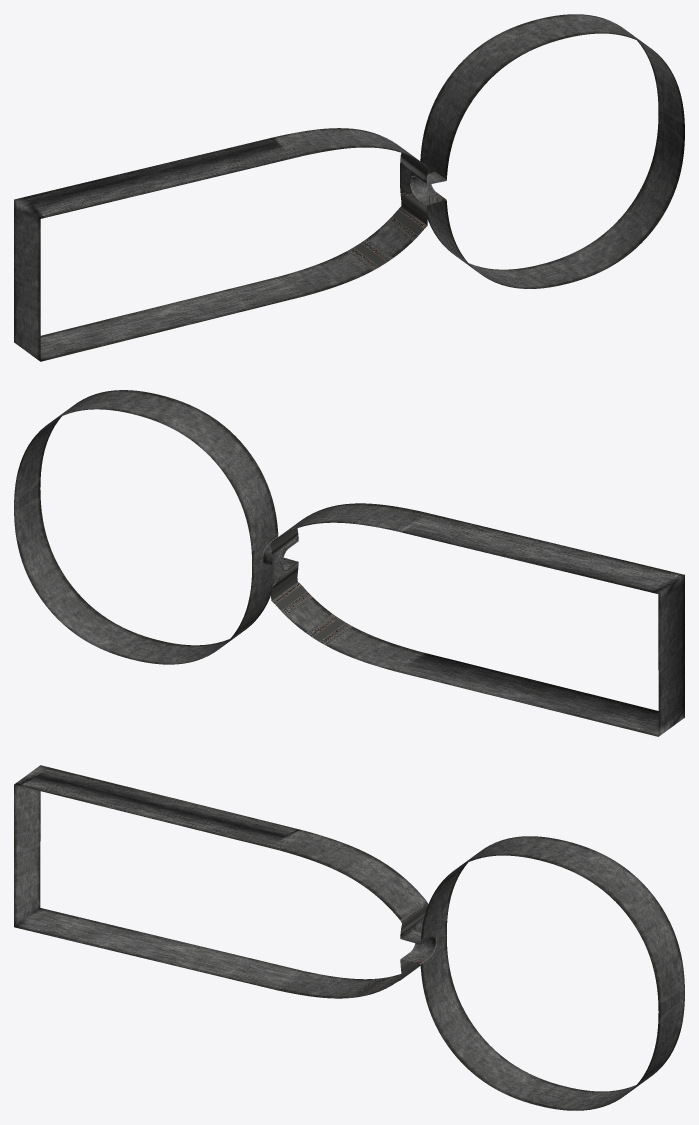
The model's file is InvisibleWall.glb.
3 renders of one model, top to bottom at view 1: azimuth 30°, elevation 25°; view 2: azimuth 150°, elevation 25°; view 3: azimuth 330°, elevation 25°, orthographic.
Parts seen in each view (by area): view 1: Castle_Wall_A_Bend; view 2: Castle_Wall_A_Bend; view 3: Castle_Wall_A_Bend.
Part boxes in pixels (left/top/right/bottom): Castle_Wall_A_Bend: left=14, top=14, right=684, bottom=361; Castle_Wall_A_Bend: left=14, top=390, right=684, bottom=736; Castle_Wall_A_Bend: left=14, top=765, right=684, bottom=1110.
Size of the model in its own units: 2170 by 790 by 157.
Materials: 3 (3 with a texture image).
